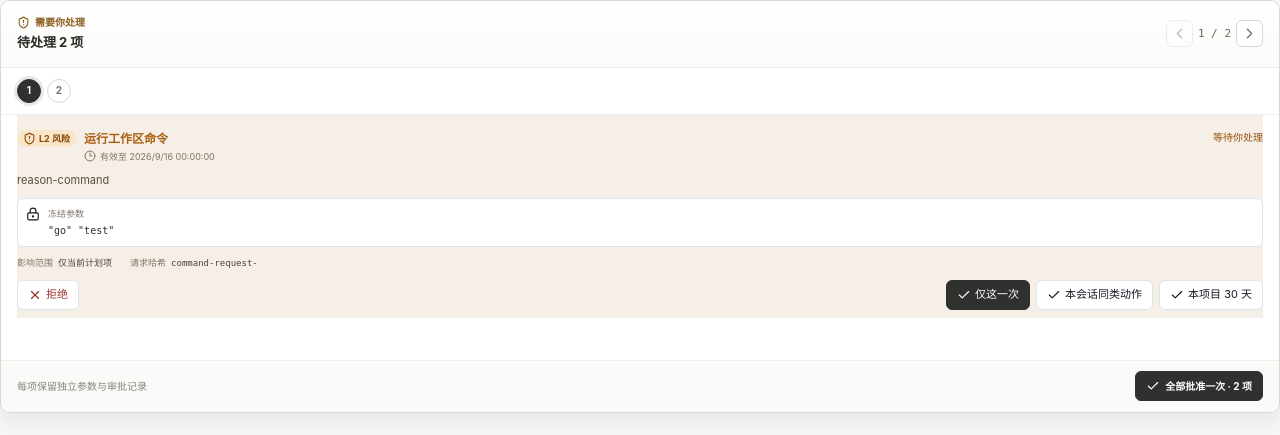
Test: ApprovalPanel › shows one approval at a time and navigates without expanding a stack
expect the text "运行工作区命令" is shown: met, box [84,130,168,146]
expect the text "写入工作区文件" is not shown: met
Step 1. Click the button named "下一项审批" → [1250, 34], box [1236,20,1263,47]
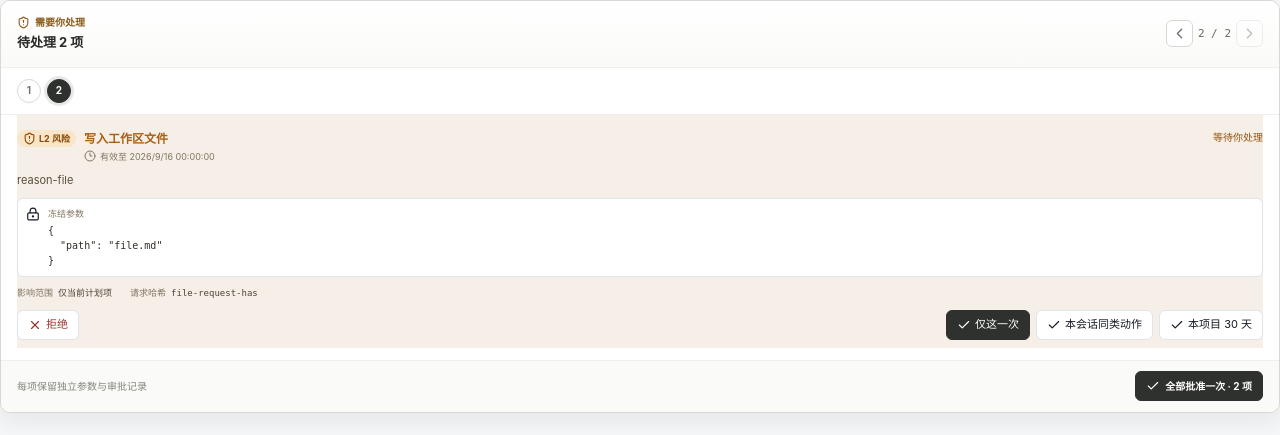
expect the text "写入工作区文件" is shown: met, box [84,130,168,146]
expect the text "运行工作区命令" is gone: met
